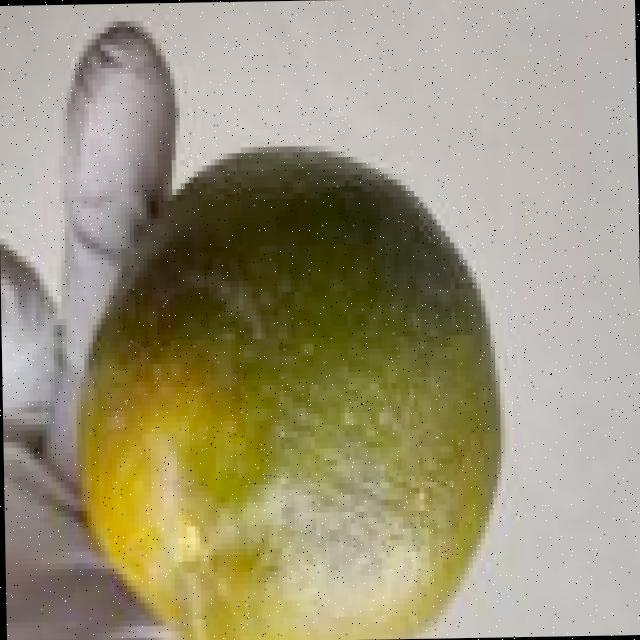Good_Orange-15-21 days: (72, 141, 500, 640)
